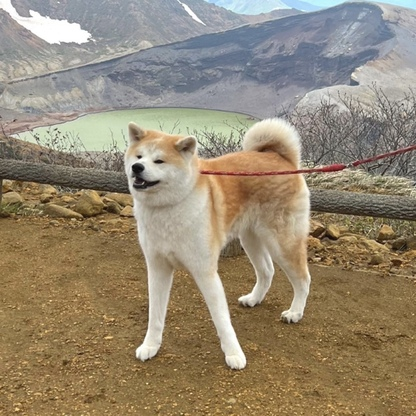akita: (97, 110, 333, 372)
